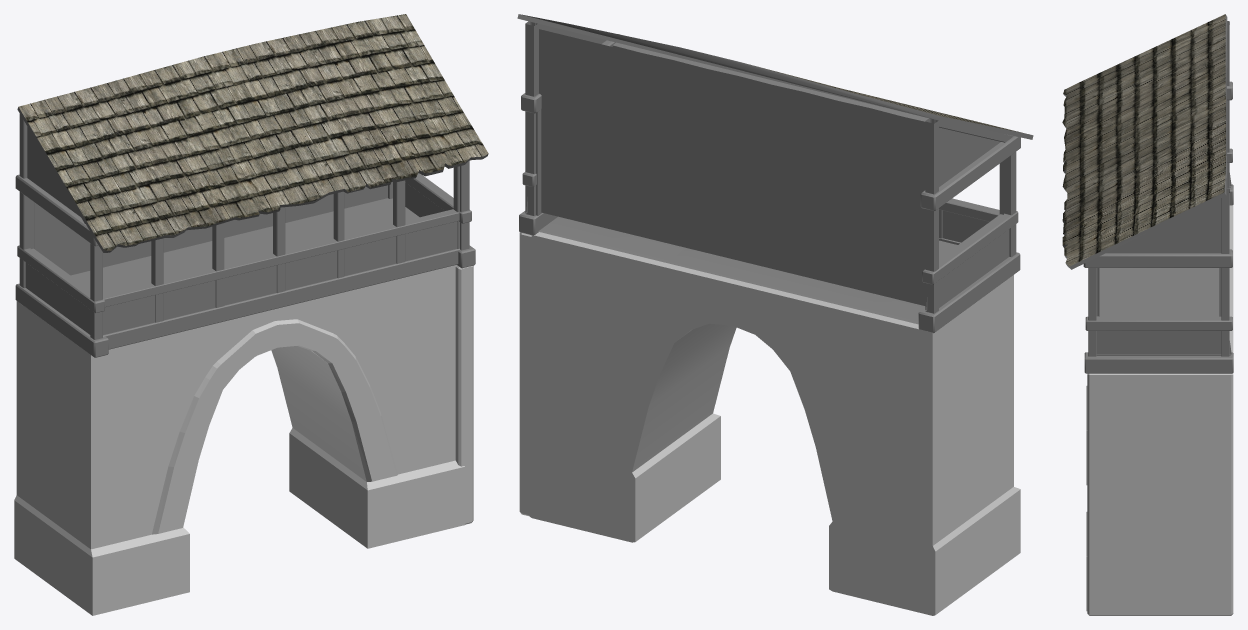
File: wall_4_lod.fbx
3 views of the same model, side by side, from view 1: azimuth 30°, elevation 25°; view 2: azimuth 150°, elevation 25°; view 3: azimuth 270°, elevation 25° (orthographic). The views are drawn at different scales.
Visible parts, largest first — view 1: Mesh; view 2: Mesh; view 3: Mesh.
Part boxes in pixels (x1,y1,x2,y2): Mesh: (14, 14, 488, 615); Mesh: (517, 14, 1033, 615); Mesh: (1062, 14, 1233, 615).
Bounding box in the file's own units: 1264 × 1438 × 516.
